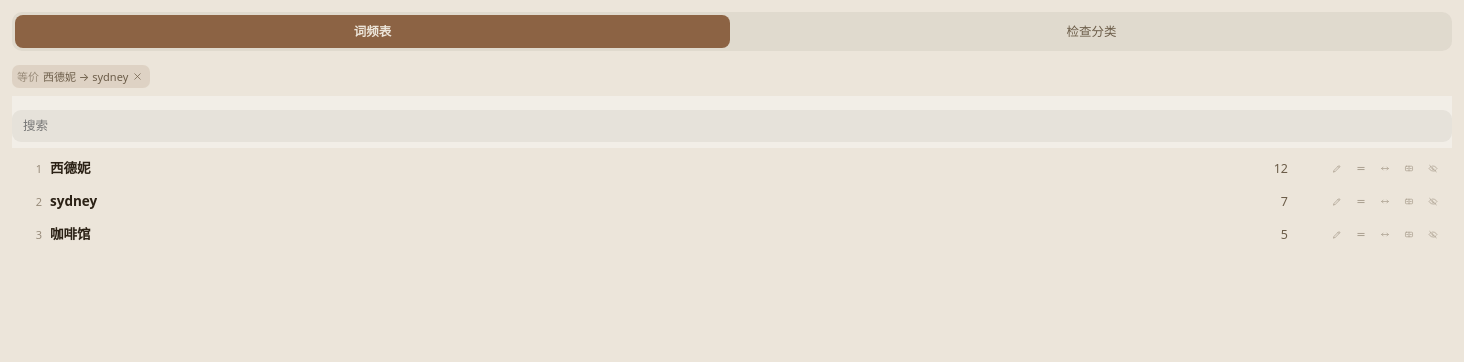
it: WordsPanel equivalence mode › a merge that would close a loop is refused with a message
Note: Now merging sydney into 西德妮 would be a cycle.
Click the button titled "等价：". click: (1361, 168)
box: left=1350, top=157, right=1372, bottom=179
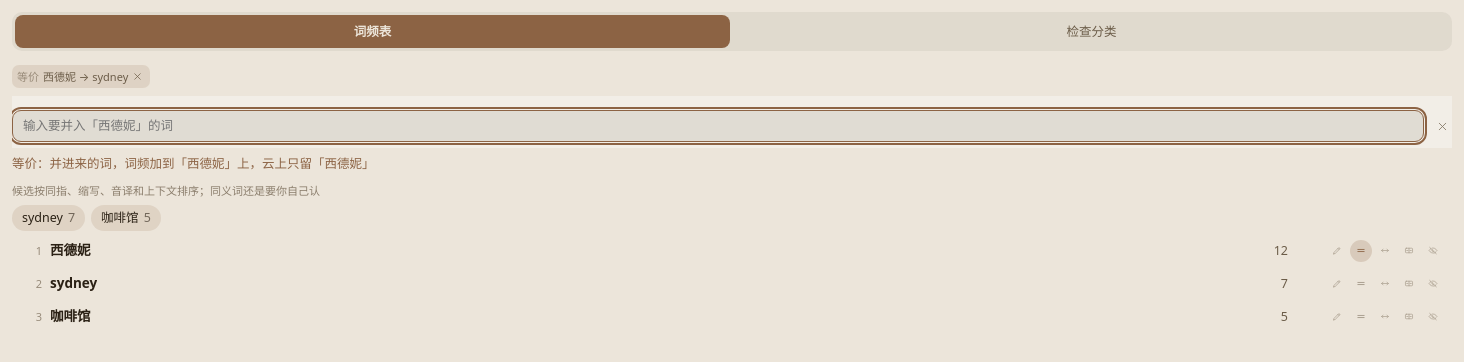
Type "syd" into the field labelled "输入要并入「西德妮」的词". click: (718, 126)
box: left=12, top=110, right=1424, bottom=142
Then press Enter
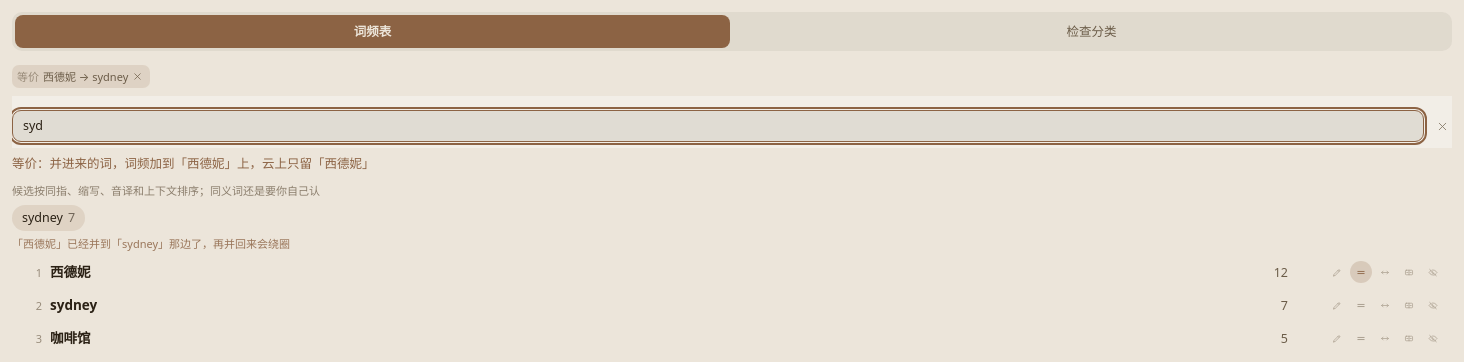
Now the text "「西德妮」已经并到「sydney」那边了，再并回来会绕圈" is shown, box left=12, top=236, right=290, bottom=251
